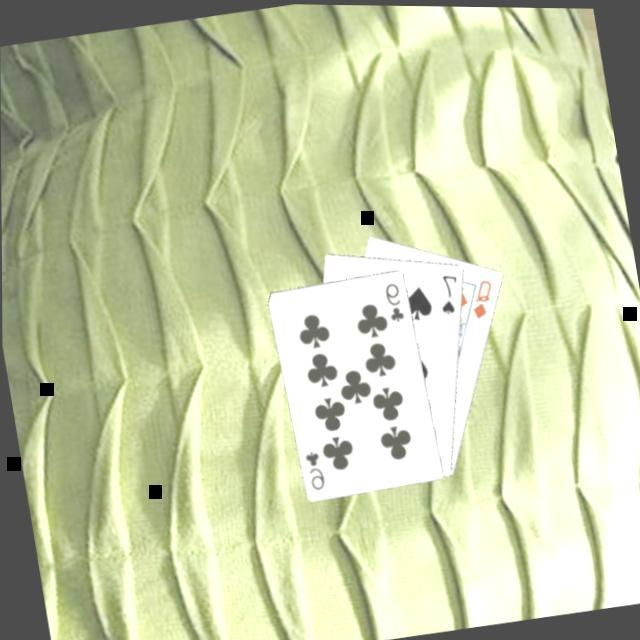7S: (434, 267, 468, 316)
9C: (302, 443, 330, 492), (382, 276, 409, 324)
QD: (466, 272, 502, 320)
